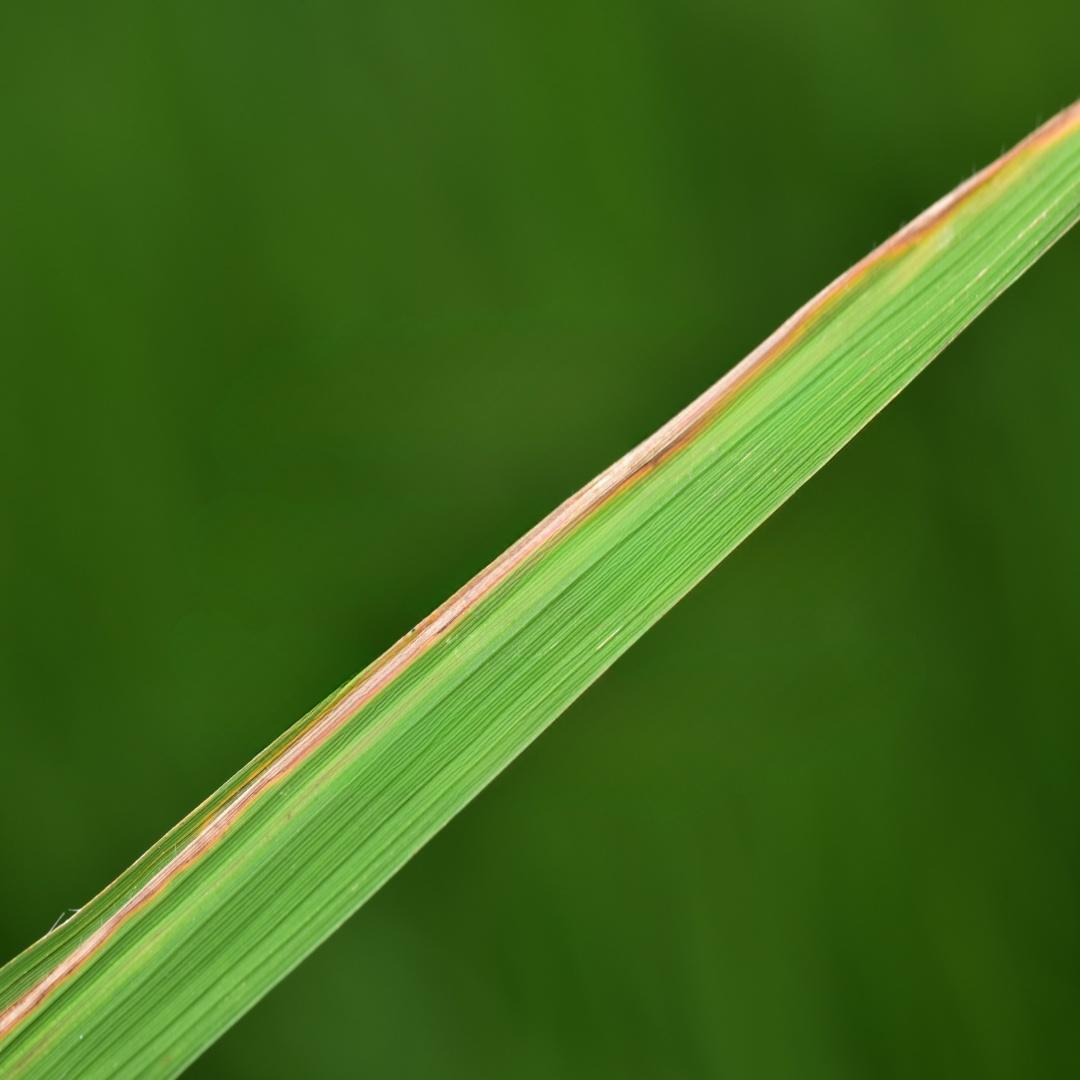BLB: (0, 104, 1079, 1037)
LEAF: (0, 102, 1079, 1079)
